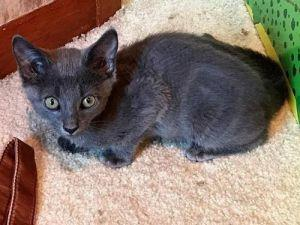rblue: (2, 26, 125, 139)
